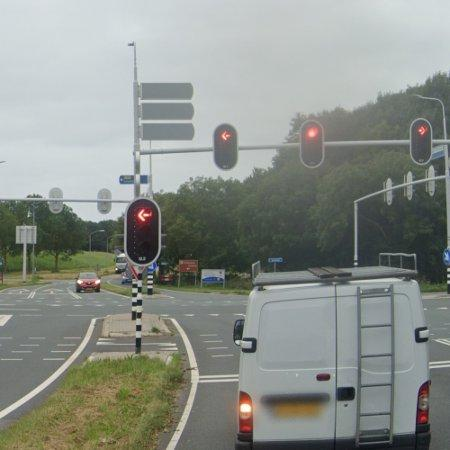traffic lights: (125, 198, 163, 277), (211, 121, 241, 175), (299, 119, 327, 172), (409, 117, 435, 165)
